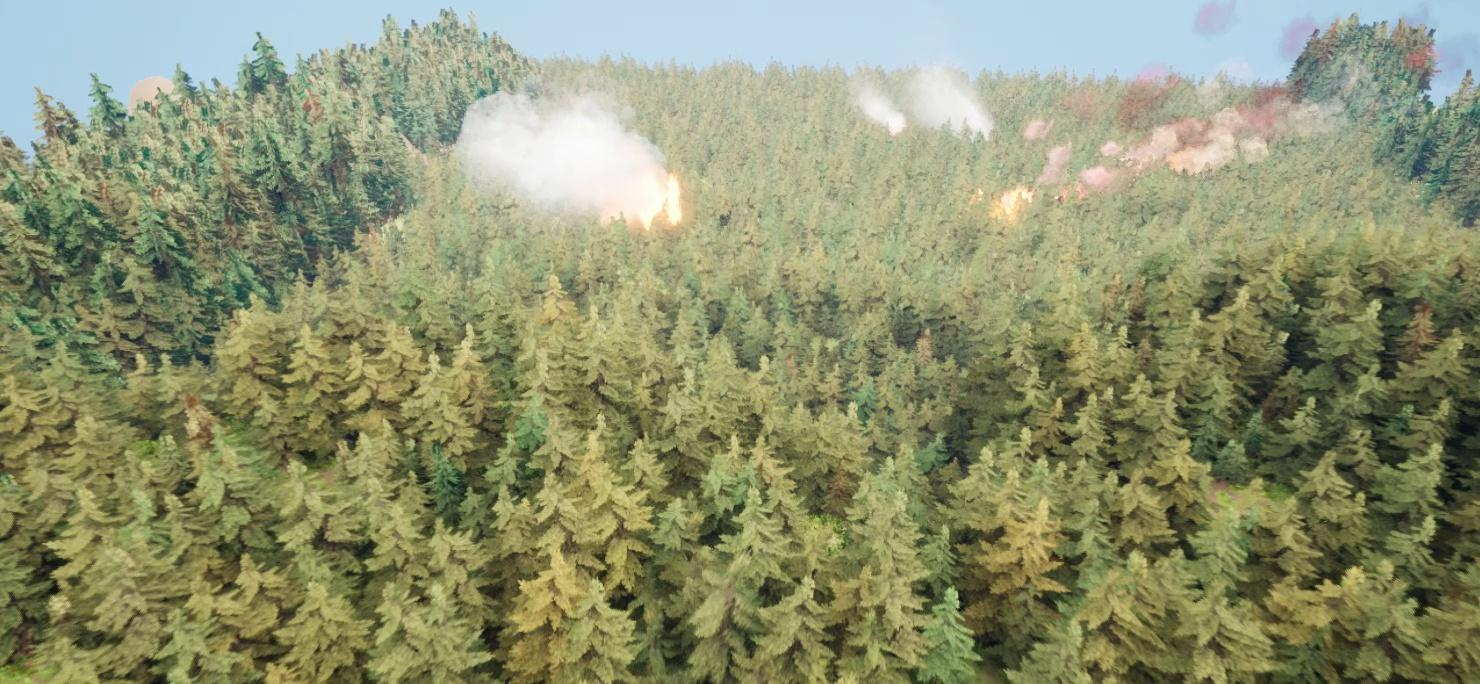fire: (634, 173, 700, 227), (988, 191, 1036, 222)
smoke: (1028, 70, 1280, 208), (457, 91, 652, 224), (923, 63, 1000, 137), (844, 78, 916, 137)
